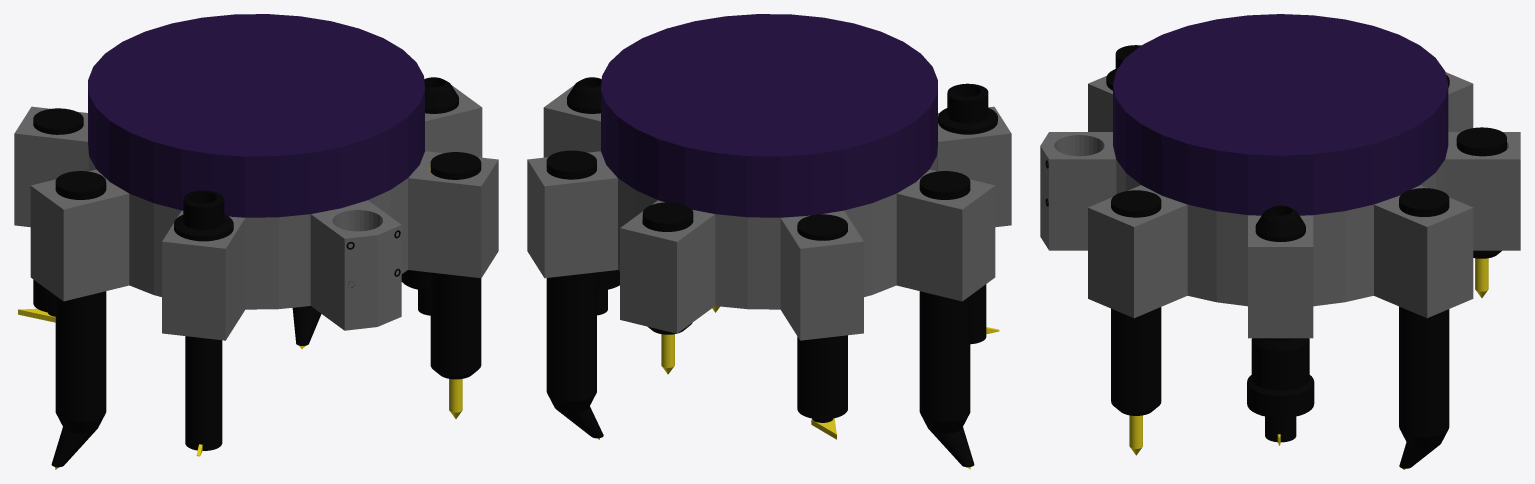
File: CNC_tool.fbx
3 views of the same model, side by side, from view 1: azimuth 30°, elevation 25°; view 2: azimuth 150°, elevation 25°; view 3: azimuth 270°, elevation 25° (orthographic).
Visible parts, largest first — view 1: rhdrn.003, xjfptEnRjd; view 2: rhdrn.003, xjfptEnRjd; view 3: rhdrn.003, xjfptEnRjd.
Boxes of the visible parts, <box> form: rhdrn.003: <box>14,77,498,469</box>; xjfptEnRjd: <box>88,14,424,217</box>; rhdrn.003: <box>527,77,1011,469</box>; xjfptEnRjd: <box>601,14,937,217</box>; rhdrn.003: <box>1040,45,1520,469</box>; xjfptEnRjd: <box>1113,14,1448,215</box>.
Size of the model in its own units: 286 by 219 by 286.
